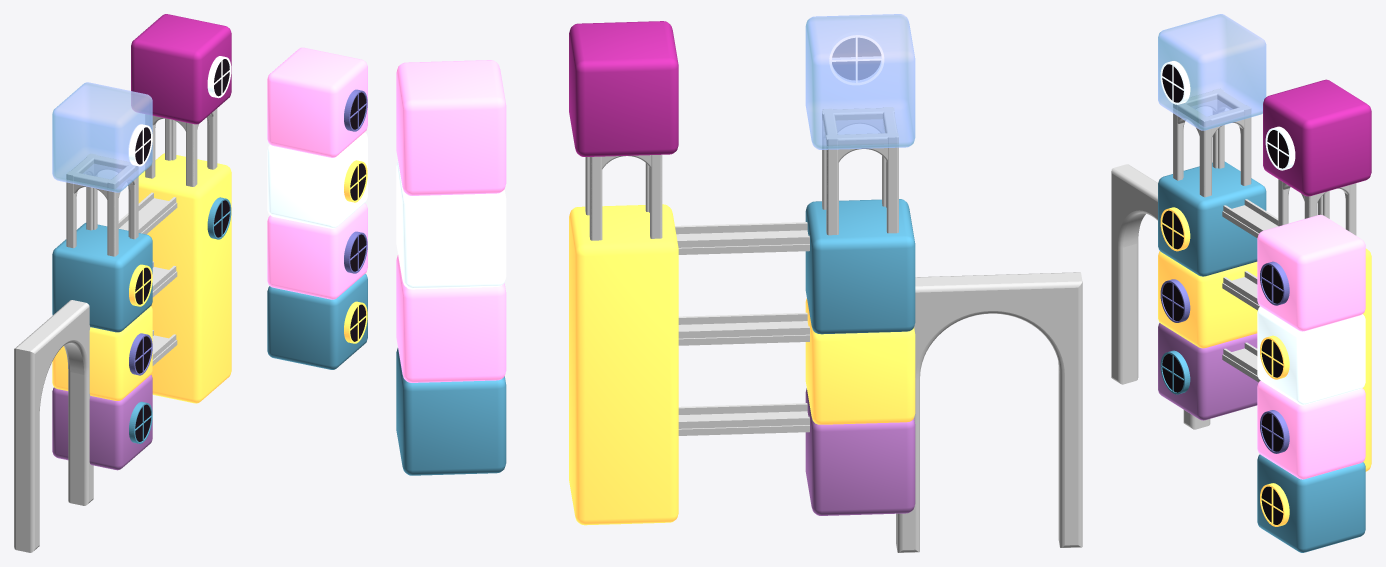
Rendered from house1.fbx.
3 renders of one model, left to right at view 1: azimuth 30°, elevation 25°; view 2: azimuth 150°, elevation 25°; view 3: azimuth 270°, elevation 25°, orthographic. The views are drawn at different scales.
Parts seen in each view (by area): view 1: Cube_2_6, Arch_4_1, Cube_3, Cube_4, Cube_3_3, Cube_5, Cube_1, Cube_2, Cube, Cube_1_4, Cube_3_2, Arch_3 (+8 smaller); view 2: Cube_2_6, Arch_4_1, Cube_4, Cube_3, Cube_3_3, Cube_5, Cube_2, Cube_1, Cube, Cube_1_4, Cube_3_2, Cube_2_3 (+15 smaller); view 3: Cube_3, Cube_3_3, Cube_4, Cube_5, Cube_2, Arch_4_1, Cube_1, Cube, Cube_1_4, Cube_3_2, Cube_2_6, Arch_4 (+26 smaller).
Part boxes in pixels (x1,y1,x2,y2): Cube_2_6: (138, 153, 231, 403); Arch_4_1: (14, 300, 93, 552); Cube_3: (267, 47, 367, 157); Cube_4: (52, 82, 152, 192); Cube_3_3: (131, 14, 231, 124); Cube_5: (52, 223, 152, 332); Cube_1: (267, 203, 367, 299); Cube_2: (267, 132, 367, 228); Cube: (267, 273, 367, 369); Cube_1_4: (52, 375, 152, 470); Cube_3_2: (52, 306, 152, 400); Arch_3: (86, 154, 138, 239); Cube_2_6: (569, 204, 678, 525); Arch_4_1: (896, 272, 1082, 552); Cube_4: (805, 14, 915, 149); Cube_3: (396, 60, 506, 195); Cube_3_3: (569, 21, 678, 156); Cube_5: (805, 199, 915, 334); Cube_2: (396, 161, 506, 289); Cube_1: (396, 255, 506, 382); Cube: (396, 348, 506, 475); Cube_1_4: (805, 388, 915, 515); Cube_3_2: (805, 298, 915, 424); Cube_2_3: (676, 230, 809, 254); Cube_3: (1257, 214, 1365, 331); Cube_3_3: (1263, 79, 1371, 196); Cube_4: (1158, 14, 1266, 130); Cube_5: (1158, 161, 1266, 276); Cube_2: (1257, 306, 1365, 405); Arch_4_1: (1111, 164, 1210, 429); Cube_1: (1257, 380, 1365, 479); Cube: (1257, 454, 1365, 552); Cube_1_4: (1158, 323, 1258, 420); Cube_3_2: (1158, 251, 1257, 348); Cube_2_6: (1362, 248, 1371, 471); Arch_4: (1173, 88, 1224, 180).
Size of the model in its own units: 743 by 633 by 368.
